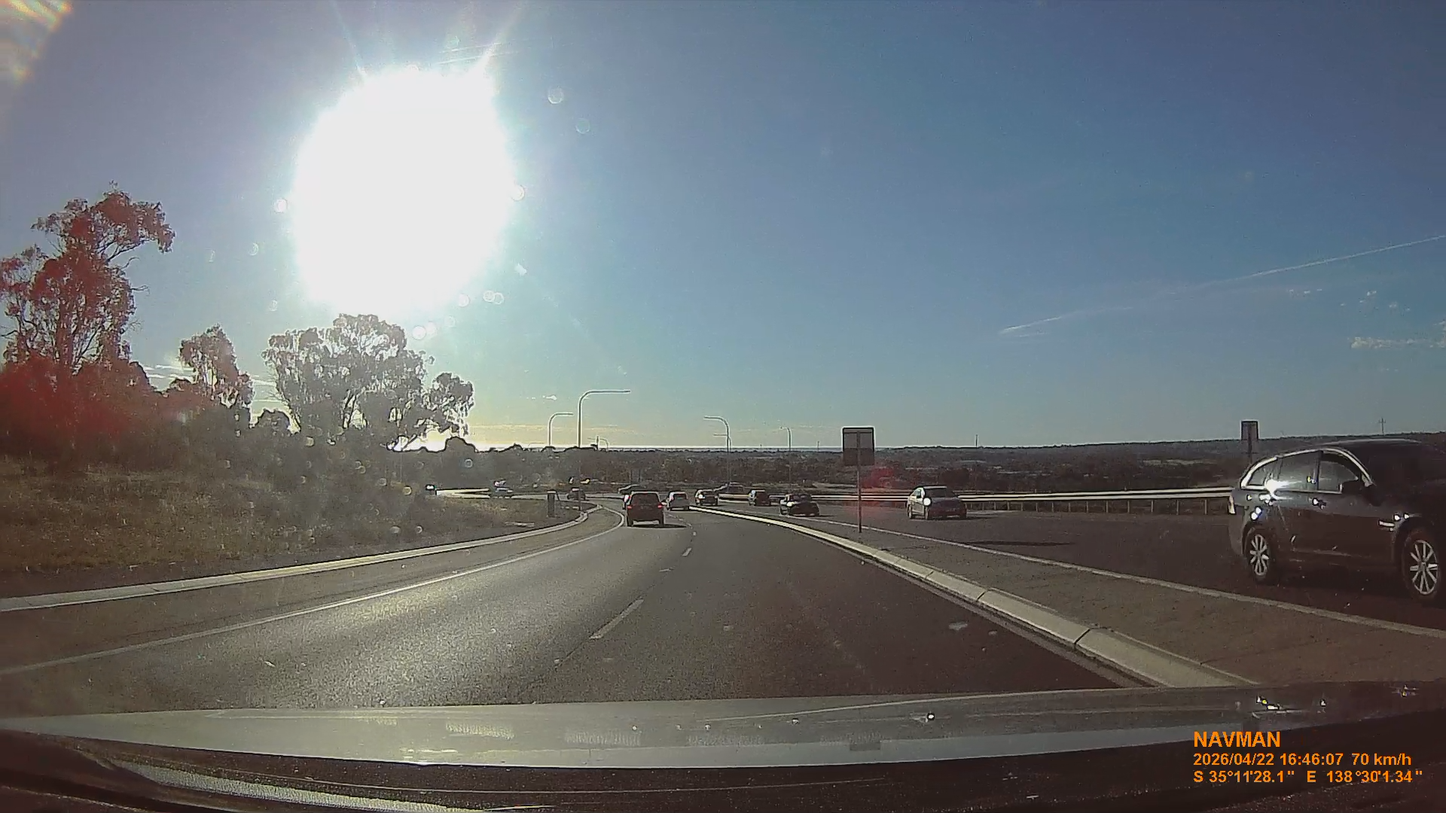road barriers: (962, 488, 1231, 516)
